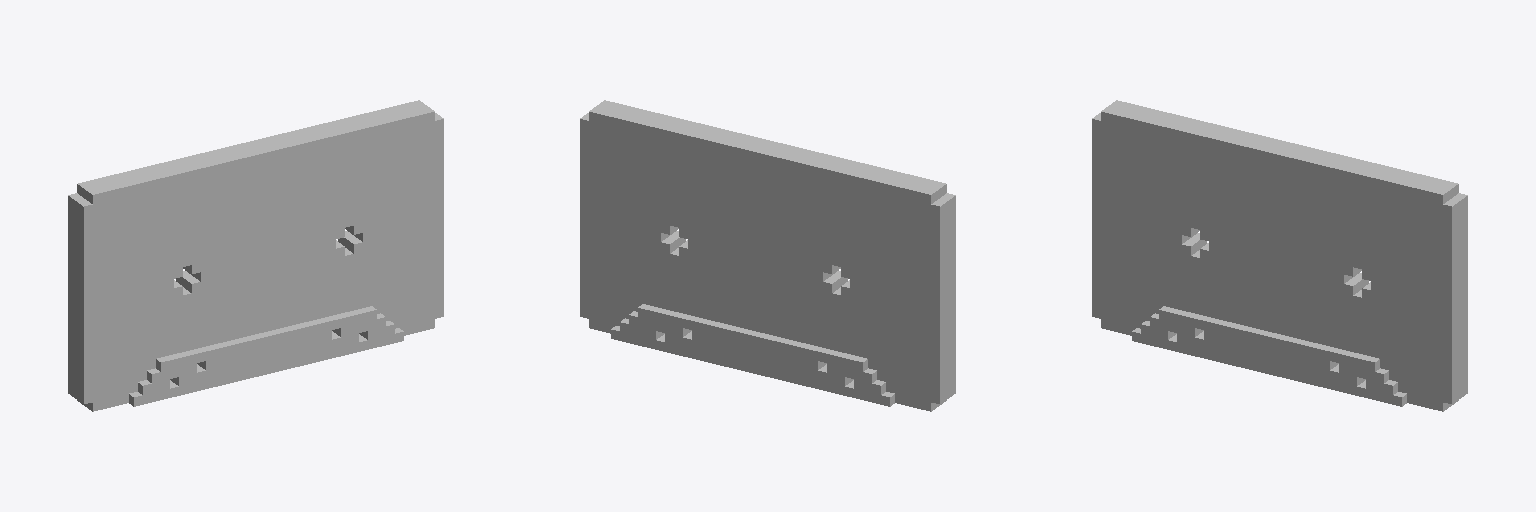
File: Wordwall Caset.obj
3 views of the same model, side by side, from view 1: azimuth 30°, elevation 25°; view 2: azimuth 150°, elevation 25°; view 3: azimuth 330°, elevation 25° (orthographic).
Visible parts, largest first — view 1: Wordwall Caset; view 2: Wordwall Caset; view 3: Wordwall Caset.
Part boxes in pixels (bbox=[...]): Wordwall Caset: bbox=[68, 100, 443, 411]; Wordwall Caset: bbox=[580, 100, 955, 411]; Wordwall Caset: bbox=[1092, 100, 1467, 411].
Size of the model in its own units: 40 by 23 by 5.